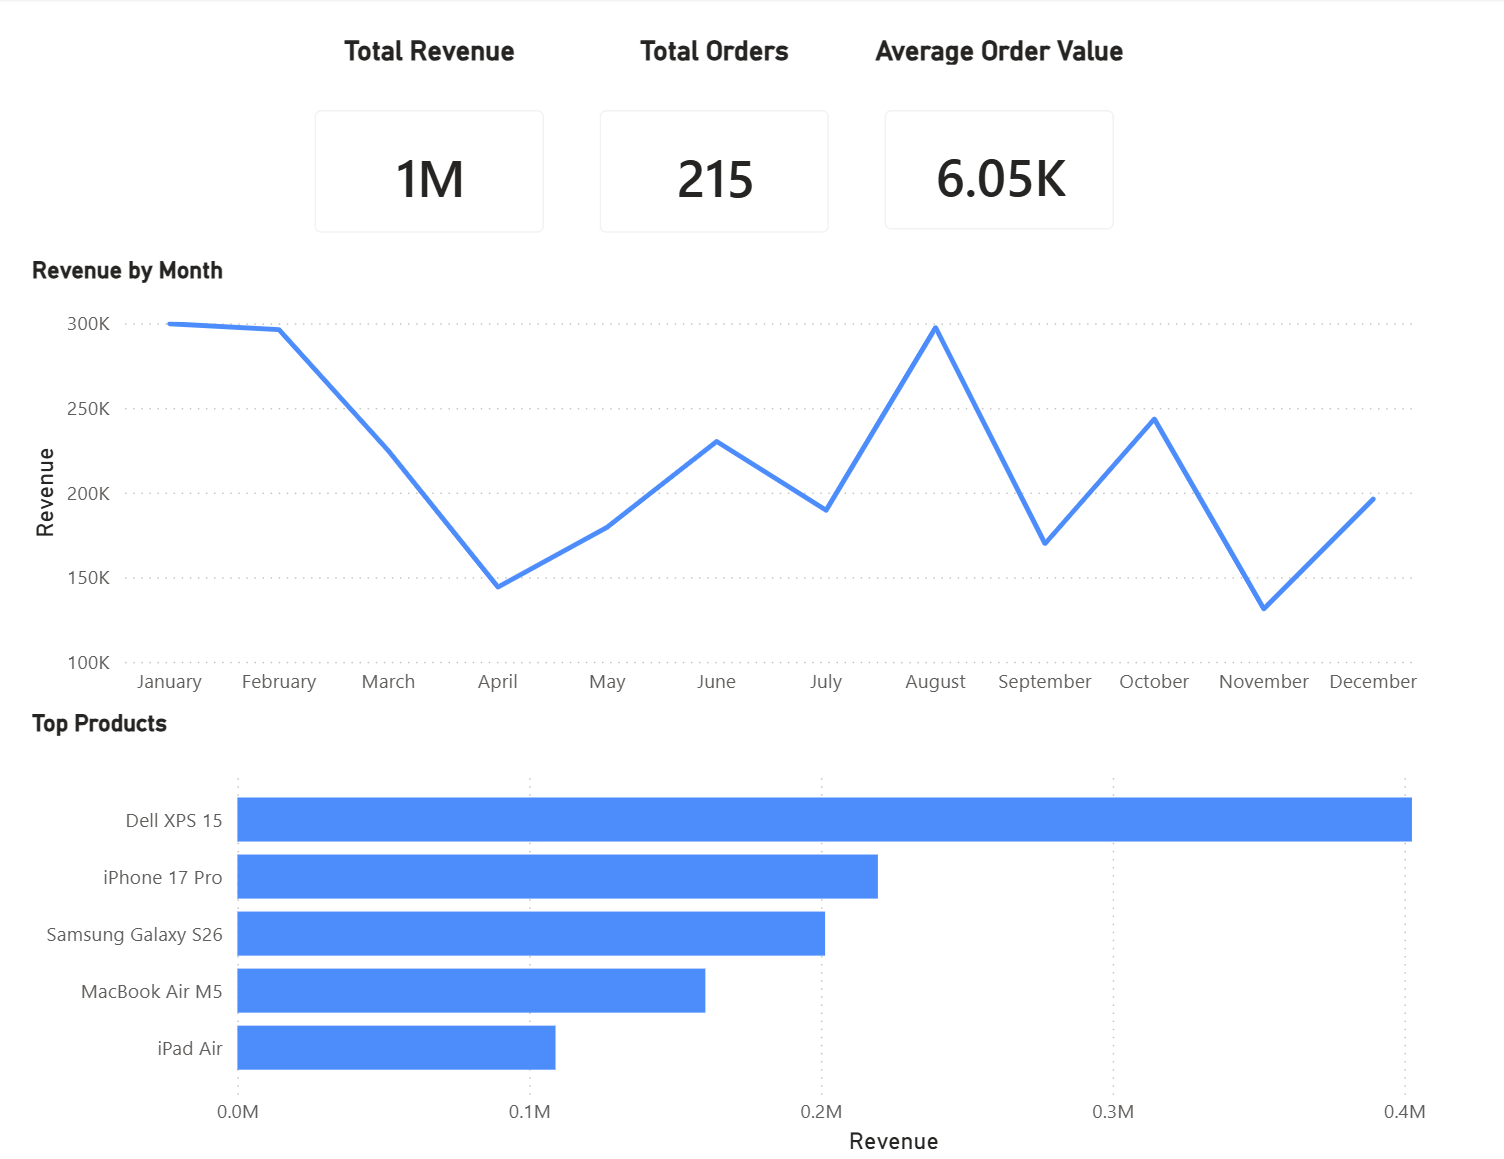

The page's visual inventory and layout, read from the dashboard file:
{"tool":"powerbi","page":{"name":"Page 1","canvas":[1280,720],"ordinal":0},"visuals":[{"type":"lineChart","title":"Revenue by Month","fields":{"Category":["monthly_sales.month.Variation.Date Hierarchy.Month"],"Y":["Sum(monthly_sales.revenue)"]},"box":[16.5,159.9,870.7,280.3],"z":0},{"type":"cardVisual","title":"Total Orders","fields":{"Data":["Sum(KPI.total_orders)"]},"box":[355.7,22.3,176.4,140.2],"z":2000},{"type":"barChart","title":"Top Products","fields":{"Category":["top_products.product_name"],"Y":["Sum(top_products.revenue)"]},"box":[16.7,440.4,963.1,279.6],"z":3000},{"type":"cardVisual","title":"Average Order Value","fields":{"Data":["Sum(KPI.average_order_value)"]},"box":[532,22.3,176.4,138.9],"z":4000},{"type":"cardVisual","title":"Total Revenue","fields":{"Data":["Sum(KPI.total_revenue)"]},"box":[179.4,22.3,176.4,140.2],"z":5000}]}

Visuals, with their boxes on the page's 1280x720 design canvas (x1, y1, x2, y2). These are canvas units, not pixel positions in the 1504x1159 screenshot, which may show the page scaled, cropped or inside an application window:
"Revenue by Month" lineChart: Rect(16, 160, 887, 440)
"Total Orders" cardVisual: Rect(356, 22, 532, 162)
"Top Products" barChart: Rect(17, 440, 980, 720)
"Average Order Value" cardVisual: Rect(532, 22, 708, 161)
"Total Revenue" cardVisual: Rect(179, 22, 356, 162)
